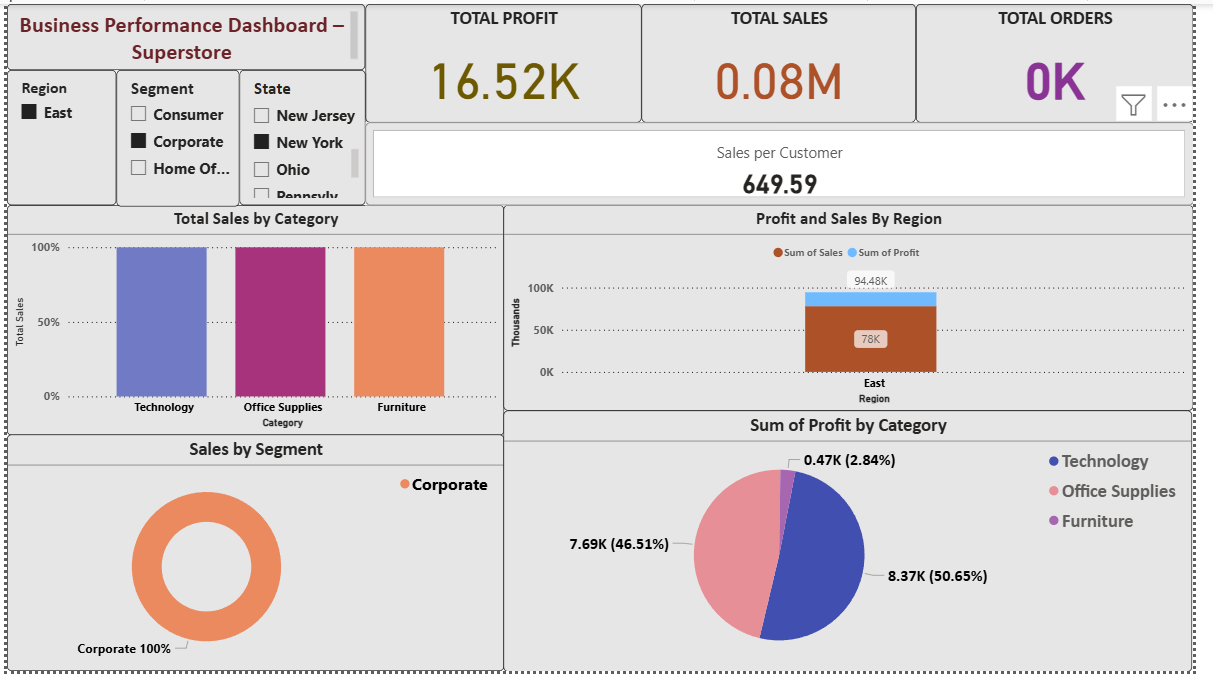

Layout of this report page (visuals, bound fields, positions):
{"tool":"powerbi","page":{"name":"Page 1","canvas":[1280,720],"ordinal":0},"visuals":[{"type":"card","fields":{"Values":["Sample - Superstore.Total Orders"]},"box":[981.3,0,299.6,127.9],"z":0},{"type":"card","fields":{"Values":["Sample - Superstore.Total Sales"]},"box":[688.2,0,293.1,127.9],"z":1000},{"type":"card","fields":{"Values":["Sample - Superstore.Total Profit"]},"box":[417.8,0,270.4,127.9],"z":2000},{"type":"textbox","box":[0,0,417.8,71.2],"z":3000},{"type":"hundredPercentStackedColumnChart","fields":{"Y":["Sample - Superstore.Total Sales"],"Category":["Sample - Superstore.Category"]},"box":[0,216.7,536.7,248.3],"z":4000},{"type":"lineStackedColumnComboChart","fields":{"Category":["Sample - Superstore.Region"],"Y":["Sum(Sample - Superstore.Sales)","Sum(Sample - Superstore.Profit)"]},"box":[536,217,744.8,221.8],"z":5000},{"type":"donutChart","title":"Sales by Segment","fields":{"Category":["Sample - Superstore.Segment"],"Y":["Sum(Sample - Superstore.Sales)"]},"box":[0,465,536.7,255],"z":6000},{"type":"slicer","fields":{"Values":["Sample - Superstore.Region"]},"box":[0,71.2,118.2,145.7],"z":7000},{"type":"slicer","fields":{"Values":["Sample - Superstore.Segment"]},"box":[118.2,71.2,150.6,147.3],"z":8000},{"type":"slicer","fields":{"Values":["Sample - Superstore.State"]},"box":[268.8,71.2,149,145.7],"z":9000},{"type":"pieChart","fields":{"Category":["Sample - Superstore.Category"],"Y":["Sum(Sample - Superstore.Profit)"]},"box":[536,438.8,743.2,281.7],"z":10000},{"type":"cardVisual","fields":{"Data":["Sample - Superstore.Sales per Customer"]},"box":[417.8,127.9,863,89.1],"z":11000}]}

Visuals, with their boxes in screenshot pixels (x1, y1, x2, y2), scaled from the page's 1280x720 canvas onto the 1213x681 screenshot:
card - Sample - Superstore.Total Orders: bbox=(930, 0, 1212, 121)
card - Sample - Superstore.Total Sales: bbox=(652, 0, 930, 121)
card - Sample - Superstore.Total Profit: bbox=(396, 0, 652, 121)
textbox: bbox=(0, 0, 396, 67)
hundredPercentStackedColumnChart - Sample - Superstore.Total Sales x Sample - Superstore.Category: bbox=(0, 205, 509, 440)
lineStackedColumnComboChart - Sample - Superstore.Region x Sum(Sample - Superstore.Sales): bbox=(508, 205, 1212, 415)
"Sales by Segment" donutChart: bbox=(0, 440, 509, 680)
slicer - Sample - Superstore.Region: bbox=(0, 67, 112, 205)
slicer - Sample - Superstore.Segment: bbox=(112, 67, 255, 207)
slicer - Sample - Superstore.State: bbox=(255, 67, 396, 205)
pieChart - Sample - Superstore.Category x Sum(Sample - Superstore.Profit): bbox=(508, 415, 1212, 680)
cardVisual - Sample - Superstore.Sales per Customer: bbox=(396, 121, 1212, 205)
